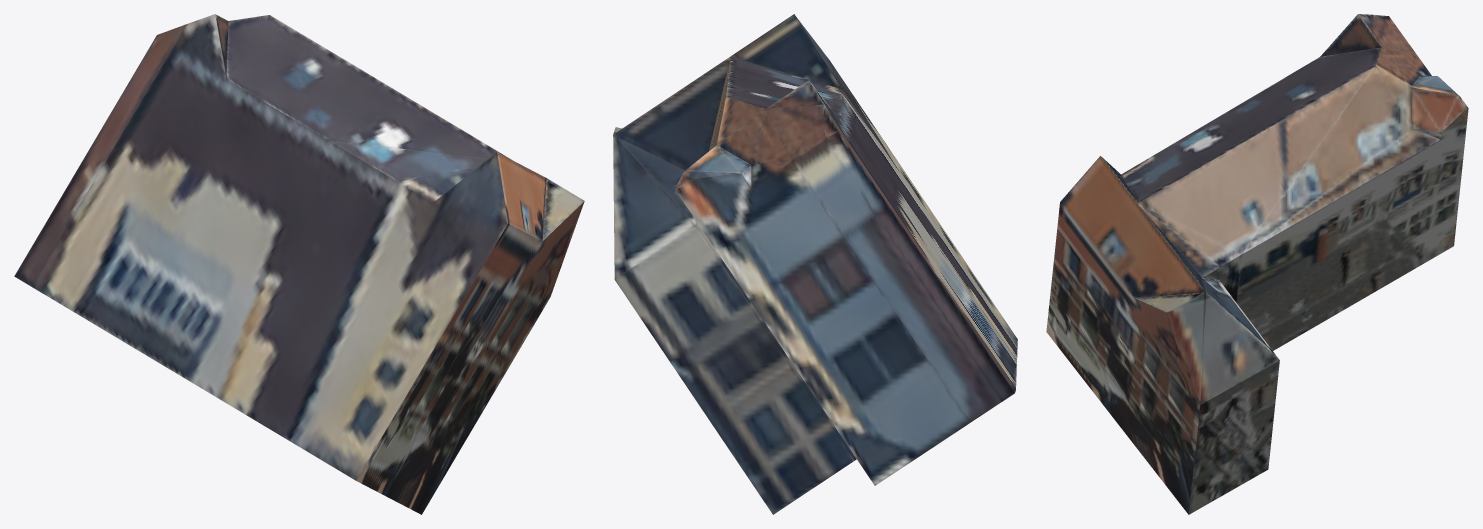
3 renders of one model, left to right at view 1: azimuth 30°, elevation 25°; view 2: azimuth 150°, elevation 25°; view 3: azimuth 270°, elevation 25°, orthographic. The views are drawn at different scales.
Parts seen in each view (by area): view 1: BAG_0599100000187001 (×5); view 2: BAG_0599100000187001 (×7); view 3: BAG_0599100000187001 (×6).
Part boxes in pixels (<box>): BAG_0599100000187001 (×5): <box>14,14,584,514</box>; BAG_0599100000187001 (×7): <box>613,14,1017,514</box>; BAG_0599100000187001 (×6): <box>1046,14,1468,514</box>.
Bounding box in the file's own units: 22.64 × 21.81 × 18.73.
1 material, 1 textured.
